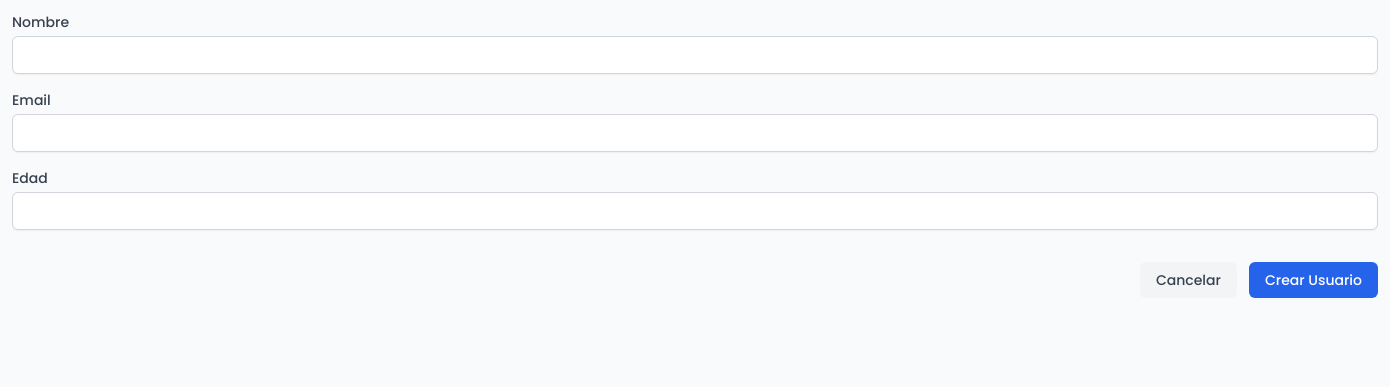
Test case: Feature: Formulario de Creación de Usuarios › Scenario: Usuario envía el formulario vacío › El formulario debe mostrar errores de validación para los campos obligatorios
# El usuario hace clic en el botón de enviar sin llenar ningún campo
What coordinates should you click on to do the following:
click the button "Crear Usuario"
I would click on:
 (1313, 280)
Its box is [1249,262,1378,298].
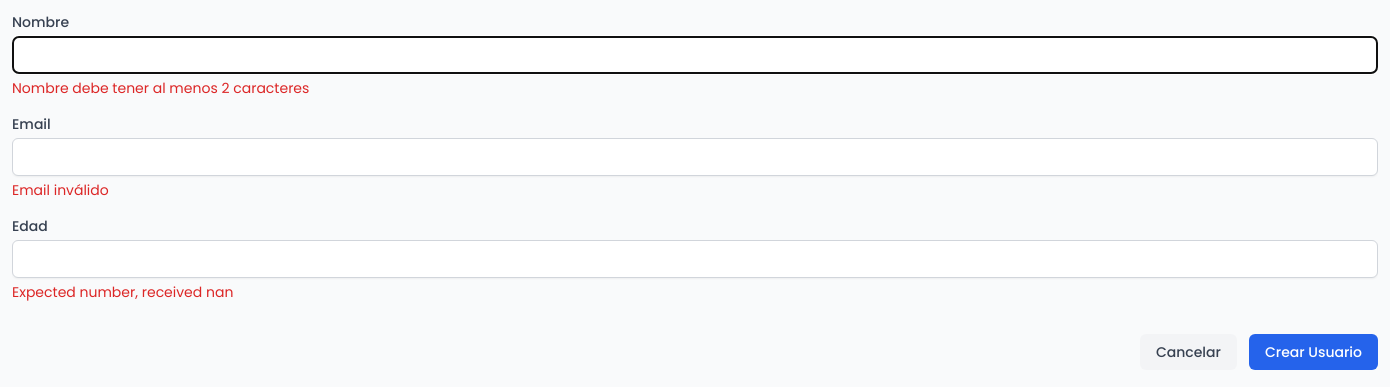
Expected: the text "Nombre debe tener al menos 2 caracteres" is shown, [12,78,309,98]
Expected: the text "Email inválido" is shown, [12,180,109,200]
